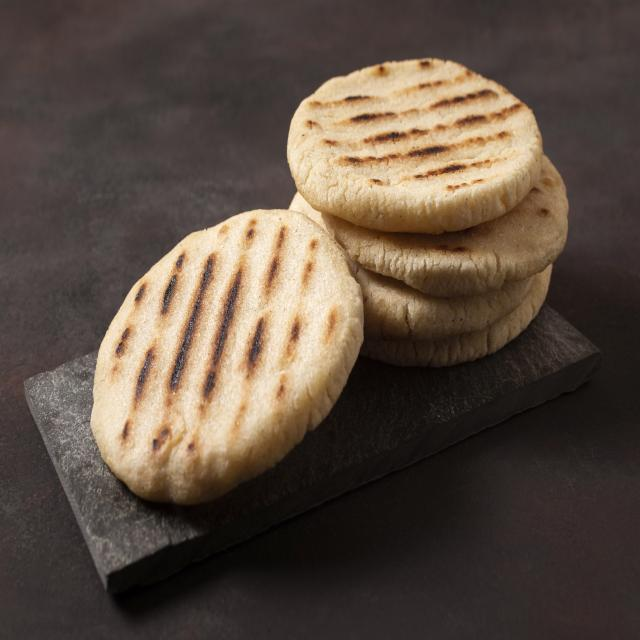arepa: (87, 212, 367, 510)
